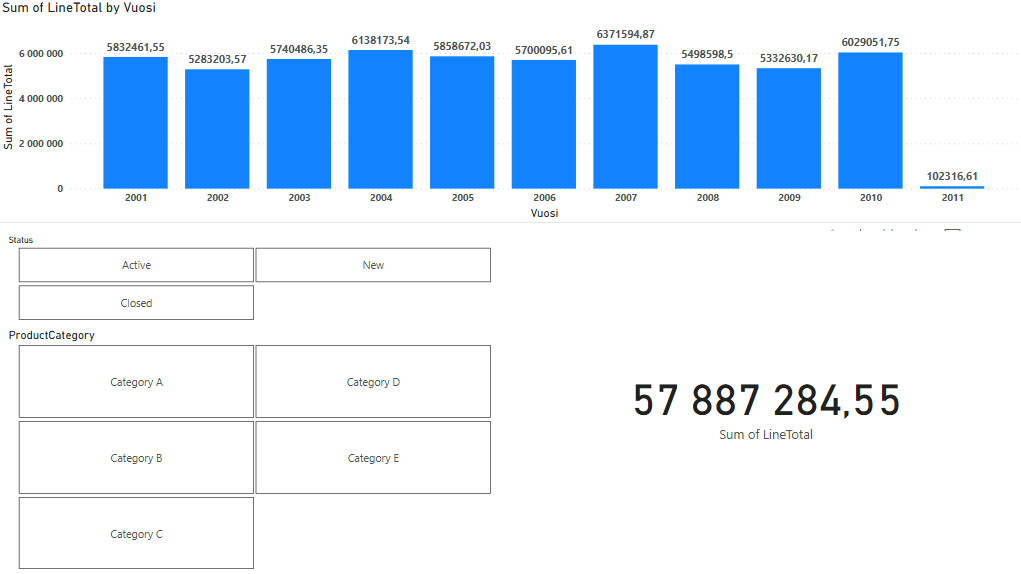

The page's visual inventory and layout, read from the dashboard file:
{"tool":"powerbi","page":{"name":"Sales Per Category","canvas":[1280,720],"ordinal":4},"visuals":[{"type":"clusteredColumnChart","fields":{"Category":["Order.OrderDate.Variation.Päivämäärähierarkia.Vuosi","Order.OrderDate.Variation.Päivämäärähierarkia.Vuosineljännes","Order.OrderDate.Variation.Päivämäärähierarkia.Kuukausi","Order.OrderDate.Variation.Päivämäärähierarkia.Päivä"],"Y":["Sum(OrderLine.LineTotal)"]},"box":[0,0,1280,280],"z":0},{"type":"slicer","fields":{"Values":["Product_Category_Task.Status"]},"box":[0,290,640,117.5],"z":1},{"type":"slicer","fields":{"Values":["Product_Category_Task.ProductCategory"]},"box":[0,407.5,640,312.5],"z":2},{"type":"card","fields":{"Values":["Sum(OrderLine.LineTotal)"]},"box":[640,290,640,430],"z":3}]}

Visuals, with their boxes in screenshot pixels (x1, y1, x2, y2), scaled from the page's 1280x720 canvas onto the 1021x574 screenshot:
clusteredColumnChart - Order.OrderDate.Variation.Päivämäärähierarkia.Vuosi x Order.OrderDate.Variation.Päivämäärähierarkia.Vuosineljännes: rect(0, 0, 1020, 223)
slicer - Product_Category_Task.Status: rect(0, 231, 510, 325)
slicer - Product_Category_Task.ProductCategory: rect(0, 325, 510, 573)
card - Sum(OrderLine.LineTotal): rect(510, 231, 1020, 573)
